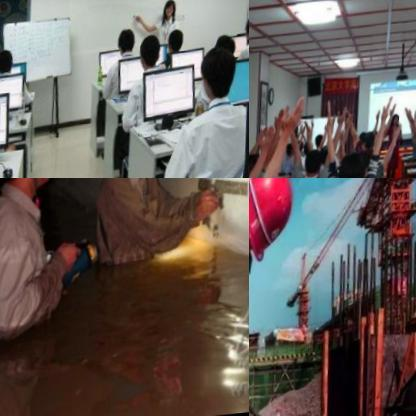head: (202, 45, 240, 104), (140, 35, 167, 73), (214, 35, 242, 69), (336, 153, 372, 178), (119, 28, 141, 61), (304, 147, 327, 178), (168, 29, 186, 57), (0, 46, 16, 74), (249, 153, 263, 178), (165, 2, 181, 23), (363, 133, 378, 155), (390, 115, 403, 133), (317, 135, 328, 152), (286, 142, 297, 159), (245, 19, 249, 46)
helmet: (249, 178, 300, 271)
